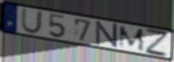5: (48, 12, 66, 39)
7: (73, 17, 92, 42)
M: (118, 25, 146, 53)
N: (95, 21, 119, 49)
U: (20, 8, 44, 35)
Z: (144, 27, 169, 58)
